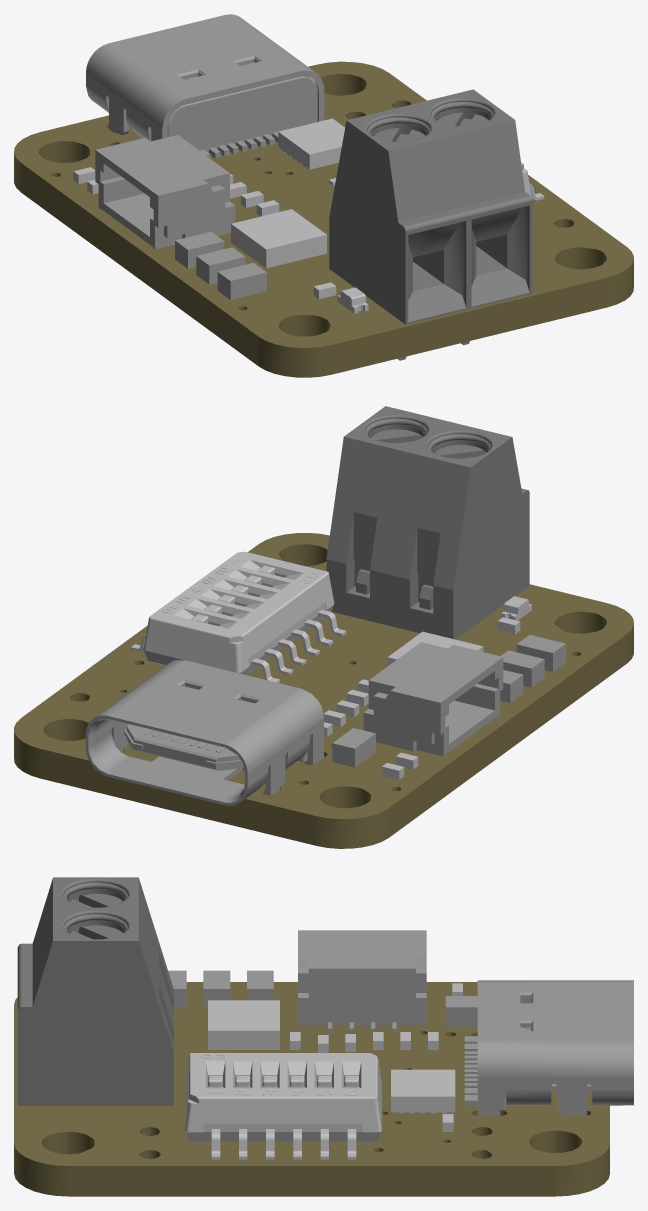
File: ada-5991.glb
3 renders of one model, top to bottom at view 1: azimuth 30°, elevation 25°; view 2: azimuth 150°, elevation 25°; view 3: azimuth 270°, elevation 25°, orthographic. The views are drawn at different scales.
Parts seen in each view (by area): view 1: 0.16666666666666666_0.16666666666666666_0.08333333333333333_, 0.3333333333333333_0.3333333333333333_0.3333333333333333_0, 0.25_0.25_0.25_0, 0.5833333333333334_0.5833333333333334_0.5833333333333334_0.8; view 2: 0.16666666666666666_0.16666666666666666_0.08333333333333333_, 0.3333333333333333_0.3333333333333333_0.3333333333333333_0, 0.25_0.25_0.25_0, 0.5833333333333334_0.5833333333333334_0.5833333333333334_0.8; view 3: 0.16666666666666666_0.16666666666666666_0.08333333333333333_, 0.3333333333333333_0.3333333333333333_0.3333333333333333_0, 0.25_0.25_0.25_0, 0.5833333333333334_0.5833333333333334_0.5833333333333334_0.8.
Boxes of the visible parts, left/top/right/bottom form: 0.16666666666666666_0.16666666666666666_0.08333333333333333_: left=14, top=61, right=633, bottom=377; 0.3333333333333333_0.3333333333333333_0.3333333333333333_0: left=86, top=14, right=324, bottom=299; 0.25_0.25_0.25_0: left=329, top=89, right=532, bottom=360; 0.5833333333333334_0.5833333333333334_0.5833333333333334_0.8: left=73, top=118, right=544, bottom=313; 0.16666666666666666_0.16666666666666666_0.08333333333333333_: left=14, top=533, right=633, bottom=848; 0.3333333333333333_0.3333333333333333_0.3333333333333333_0: left=85, top=635, right=565, bottom=805; 0.25_0.25_0.25_0: left=326, top=406, right=529, bottom=639; 0.5833333333333334_0.5833333333333334_0.5833333333333334_0.8: left=131, top=551, right=531, bottom=779; 0.16666666666666666_0.16666666666666666_0.08333333333333333_: left=14, top=982, right=609, bottom=1196; 0.3333333333333333_0.3333333333333333_0.3333333333333333_0: left=168, top=930, right=633, bottom=1115; 0.25_0.25_0.25_0: left=17, top=877, right=173, bottom=1105; 0.5833333333333334_0.5833333333333334_0.5833333333333334_0.8: left=185, top=983, right=462, bottom=1159.
Size of the model in its own units: 2.03 by 1.21 by 2.89.
